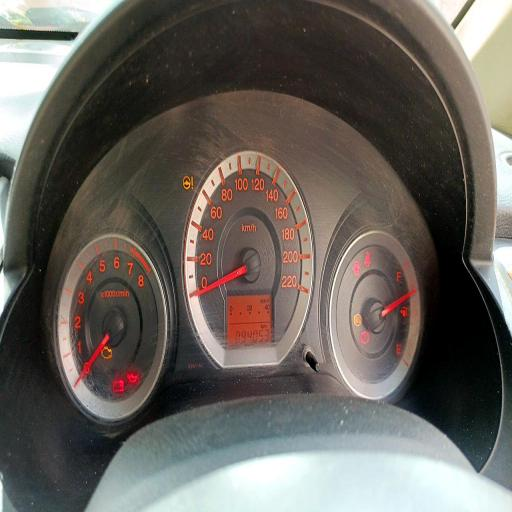belt: (364, 250, 372, 270)
brake_system_fault: (360, 331, 370, 345)
check_engine: (101, 346, 112, 360)
oil: (127, 372, 139, 384)
tachometer: (60, 231, 168, 420)
vehicle_charging: (112, 378, 124, 393)
